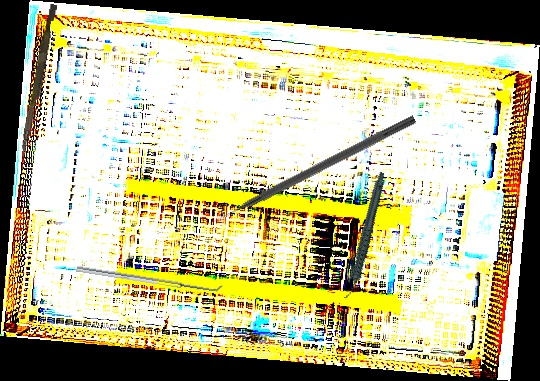Handpiece: (319, 171, 410, 301)
Hook Surgical: (205, 113, 418, 229)
Pusher: (19, 3, 58, 158)
Spatula Surgical: (76, 260, 223, 295)
